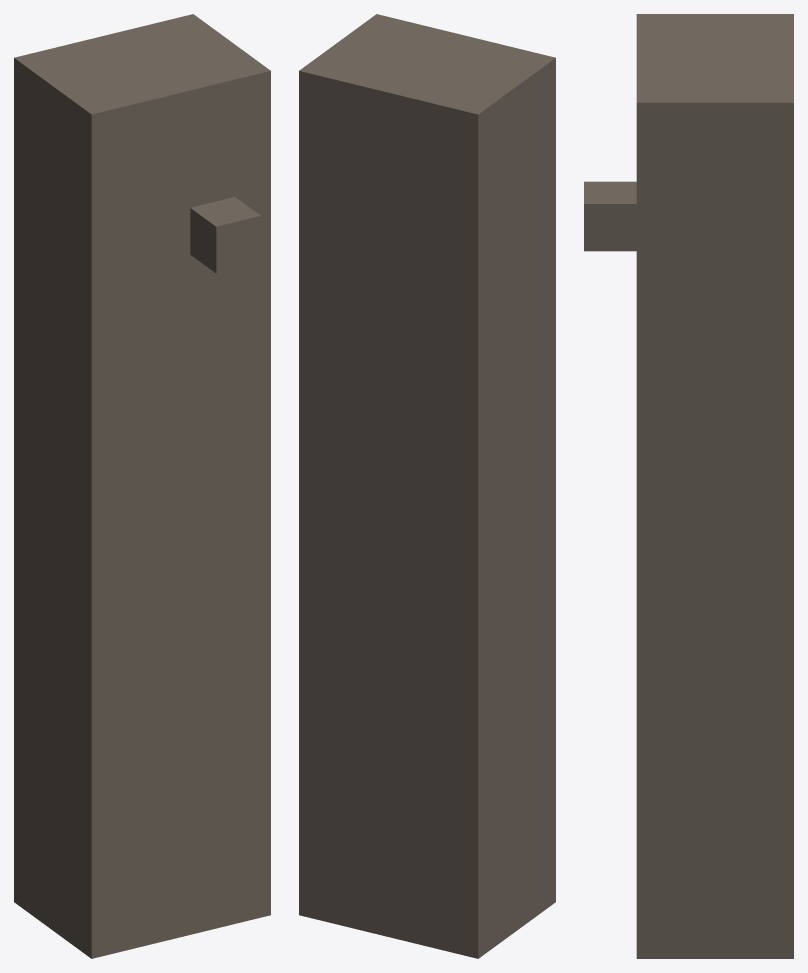
The model's file is SM_Totem.fbx.
3 renders of one model, left to right at view 1: azimuth 30°, elevation 25°; view 2: azimuth 150°, elevation 25°; view 3: azimuth 270°, elevation 25°, orthographic.
Parts seen in each view (by area): view 1: SM_Totem; view 2: SM_Totem; view 3: SM_Totem.
Part boxes in pixels (x1,y1,x2,y2): SM_Totem: (14, 14, 270, 958); SM_Totem: (299, 14, 555, 958); SM_Totem: (584, 14, 793, 958).
Size of the model in its own units: 40 by 40 by 180.
1 material, 1 textured.
